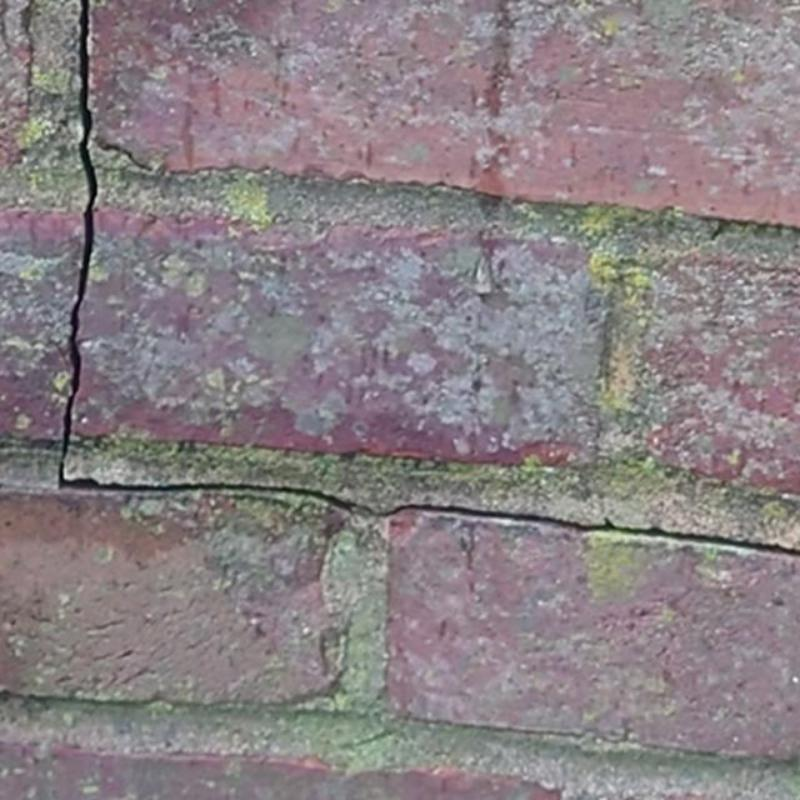pothole: (58, 1, 800, 555)
